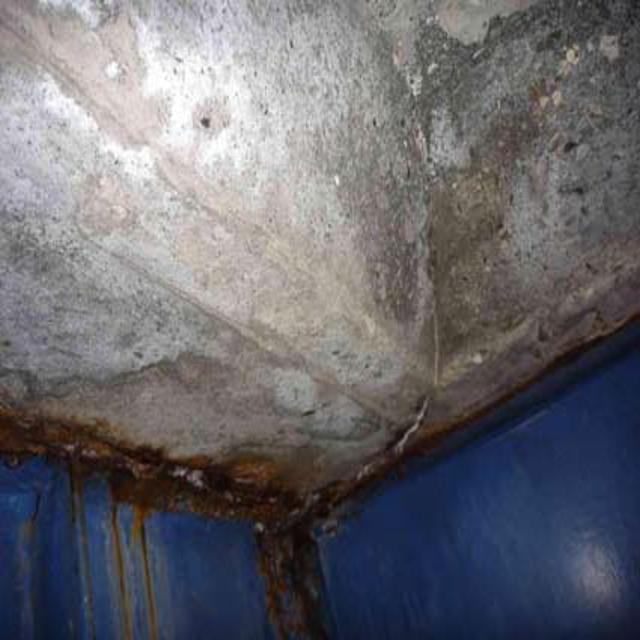corrosion: (13, 406, 348, 637), (370, 322, 640, 492)
spalling: (407, 27, 636, 283)
